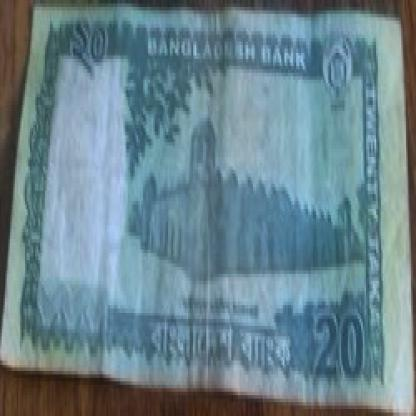Twenty: (310, 295, 370, 381), (65, 7, 121, 87)
